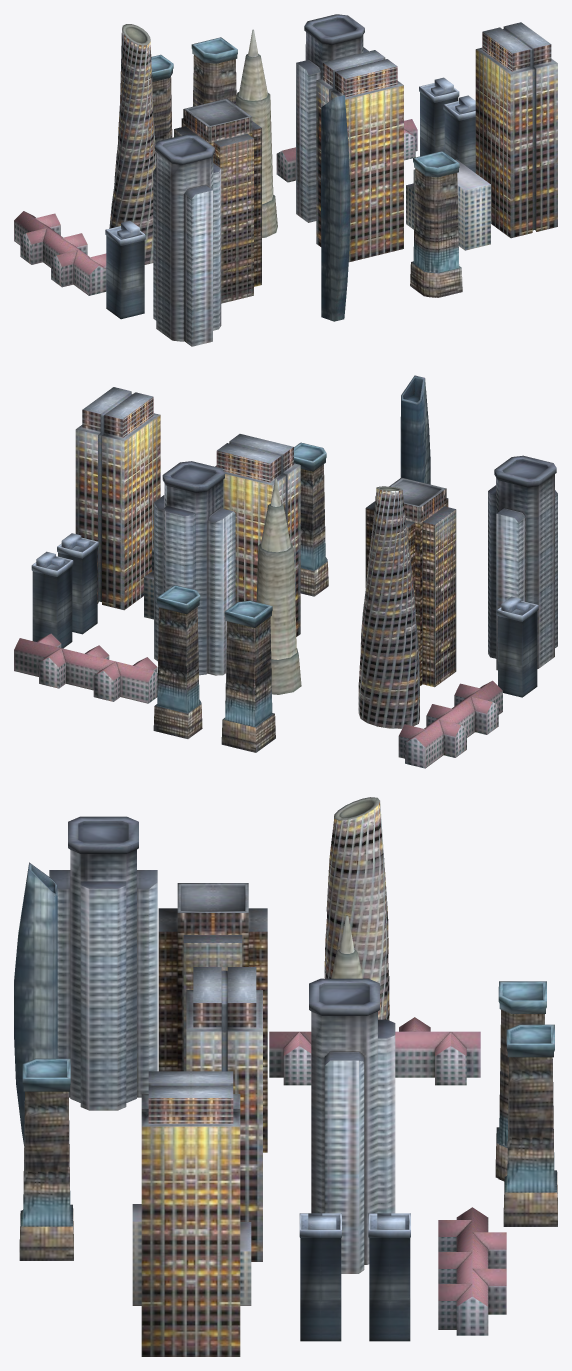
The model's file is city_postmodern_4.glb.
The picture shows the model from 3 angles, top to bottom: view 1: azimuth 30°, elevation 25°; view 2: azimuth 150°, elevation 25°; view 3: azimuth 270°, elevation 25°; orthographic projection. The views are drawn at different scales.
Visible parts, largest first — view 1: 16_low.073, 16_low.072, 16_low.063, 16_low.061, 16_low.066, 16_low.067, 16_low.064, 16_low.054, 16_low.060, 16_low.065, 16_low.056, 16_low.062 (+5 smaller); view 2: 16_low.073, 16_low.054, 16_low.066, 16_low.072, 16_low.061, 16_low.063, 16_low.050, 16_low.069, 16_low.068, 16_low.056, 16_low.060, 16_low.067 (+5 smaller); view 3: 16_low.073, 16_low.072, 16_low.054, 16_low.061, 16_low.063, 16_low.067, 16_low.069, 16_low.066, 16_low.064, 16_low.068, 16_low.060, 16_low.070 (+4 smaller).
Part boxes in pixels (x1,y1,x2,y2): 16_low.073: [475, 22, 557, 238]; 16_low.072: [153, 134, 221, 346]; 16_low.063: [316, 50, 403, 262]; 16_low.061: [174, 98, 261, 303]; 16_low.066: [109, 24, 156, 264]; 16_low.067: [410, 151, 462, 297]; 16_low.064: [321, 95, 350, 321]; 16_low.054: [296, 14, 368, 222]; 16_low.060: [14, 211, 106, 295]; 16_low.065: [105, 220, 145, 319]; 16_low.056: [236, 29, 277, 237]; 16_low.062: [406, 159, 490, 250]; 16_low.073: [75, 387, 160, 610]; 16_low.054: [154, 461, 235, 675]; 16_low.066: [358, 486, 419, 728]; 16_low.072: [488, 455, 557, 670]; 16_low.061: [365, 477, 456, 687]; 16_low.063: [215, 434, 300, 636]; 16_low.050: [221, 600, 275, 752]; 16_low.069: [153, 585, 202, 738]; 16_low.068: [14, 633, 157, 703]; 16_low.056: [256, 478, 301, 694]; 16_low.060: [398, 680, 502, 768]; 16_low.067: [294, 442, 328, 596]; 16_low.073: [141, 1071, 240, 1356]; 16_low.072: [49, 816, 157, 1110]; 16_low.054: [309, 978, 395, 1273]; 16_low.061: [158, 883, 267, 1152]; 16_low.063: [186, 967, 262, 1261]; 16_low.067: [19, 1058, 73, 1260]; 16_low.069: [503, 1024, 557, 1226]; 16_low.066: [324, 797, 389, 1020]; 16_low.064: [14, 862, 57, 1145]; 16_low.068: [438, 1207, 506, 1335]; 16_low.060: [269, 1017, 480, 1085]; 16_low.070: [368, 1213, 410, 1341].
Bounding box in the file's own units: 3.66 × 1.82 × 2.81.
4 materials, 4 textured.
